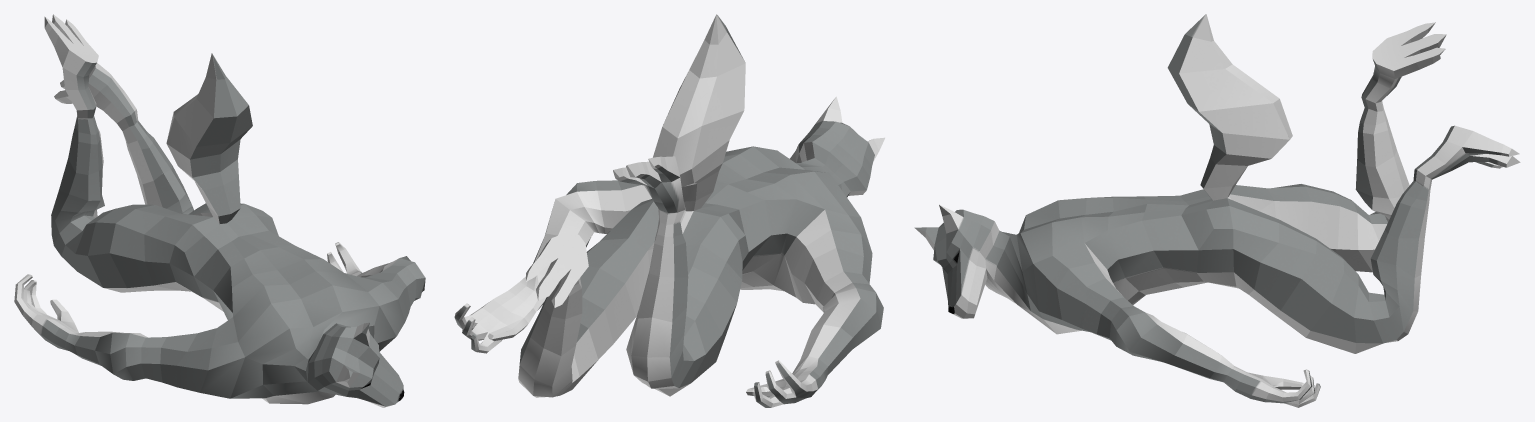
The model's file is WolfDead(70).obj.
The picture shows the model from 3 angles, left to right: view 1: azimuth 30°, elevation 25°; view 2: azimuth 150°, elevation 25°; view 3: azimuth 270°, elevation 25°; orthographic projection. The views are drawn at different scales.
Visible parts, largest first — view 1: Box001; view 2: Box001; view 3: Box001.
Boxes of the visible parts, x1,y1,x2,y2 form: Box001: (14, 14, 425, 407); Box001: (454, 14, 884, 407); Box001: (914, 14, 1520, 407).
Size of the model in its own units: 90.35 by 82.98 by 145.
